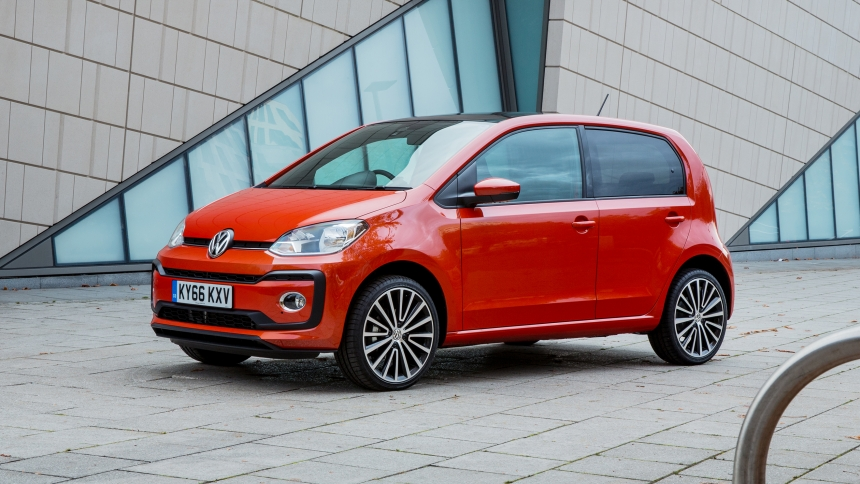Carro: (142, 109, 734, 392)
